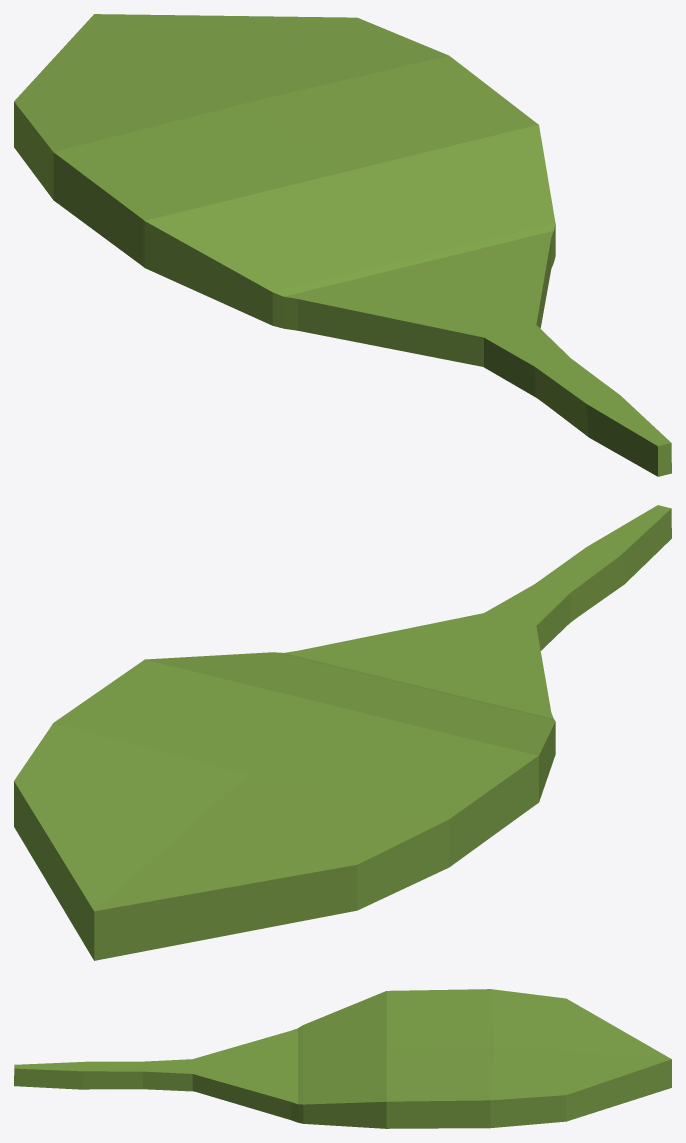
File: leaf.fbx
3 views of the same model, one above another, from view 1: azimuth 30°, elevation 25°; view 2: azimuth 150°, elevation 25°; view 3: azimuth 270°, elevation 25° (orthographic). The views are drawn at different scales.
Visible parts, largest first — view 1: Cube; view 2: Cube; view 3: Cube.
Part boxes in pixels (x1,y1,x2,y2): Cube: (14,14,671,476); Cube: (14,505,671,960); Cube: (14,989,671,1128).
Bounding box in the file's own units: 145 × 26.16 × 362.
